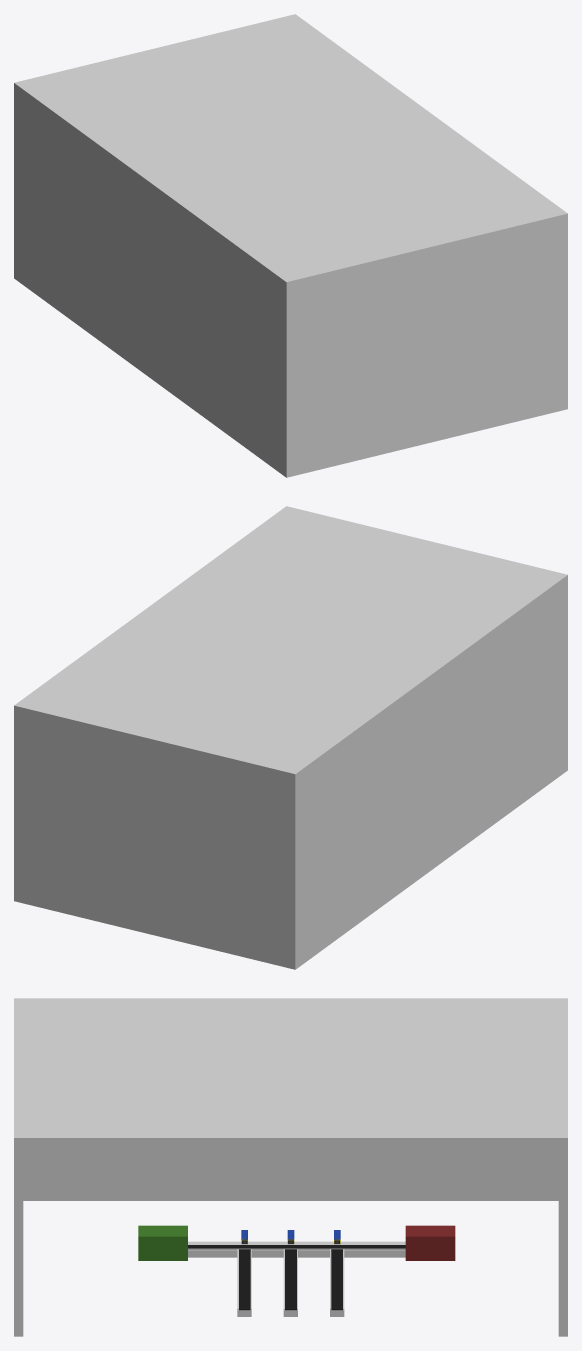
Rendered from Empresa.fbx.
3 views of the same model, one above another, from view 1: azimuth 30°, elevation 25°; view 2: azimuth 150°, elevation 25°; view 3: azimuth 270°, elevation 25° (orthographic).
Visible parts, largest first — view 1: Cube; view 2: Cube; view 3: Cube, Guia_1_2, Almacenador, MakeAProduct, Guia_1_1, BasePusher, Banda, Banda_2, Banda_3.
Boxes of the visible parts, x1,y1,x2,y2 form: Cube: (14, 14, 567, 477); Cube: (14, 506, 567, 969); Cube: (14, 998, 567, 1336); Guia_1_2: (188, 1244, 405, 1257); Almacenador: (405, 1225, 455, 1260); MakeAProduct: (138, 1225, 187, 1260); Guia_1_1: (188, 1245, 405, 1248); BasePusher: (188, 1241, 405, 1244); Banda: (331, 1249, 342, 1310); Banda_2: (285, 1249, 296, 1310); Banda_3: (239, 1249, 250, 1310).
Size of what is drawn, in the model's own units: 2143 by 1423 by 3593.
4 materials, 1 textured.
